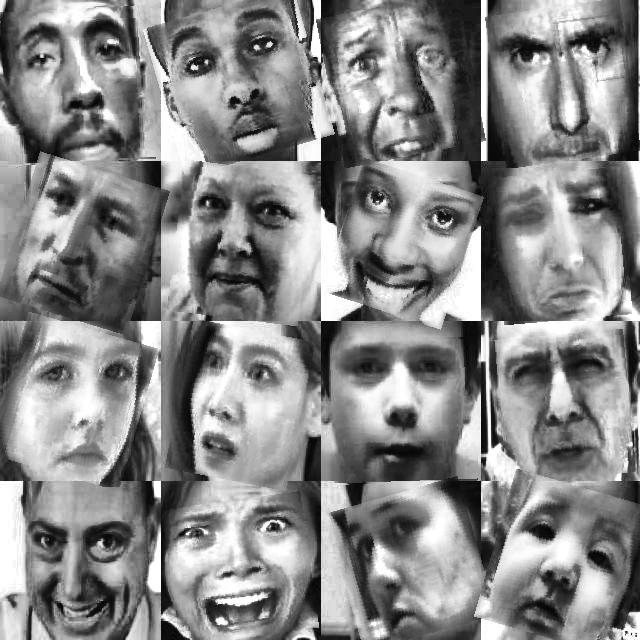angry: (490, 2, 636, 164), (497, 331, 632, 481)
fear: (333, 483, 488, 640), (171, 324, 309, 486), (166, 495, 315, 640)
happy: (322, 0, 479, 162), (331, 166, 475, 322), (172, 163, 312, 323), (12, 487, 150, 630)
neutral: (152, 0, 325, 167), (6, 160, 160, 327), (483, 477, 640, 640), (0, 320, 149, 483), (331, 338, 477, 484)
sad: (2, 7, 155, 165), (494, 170, 629, 322)
